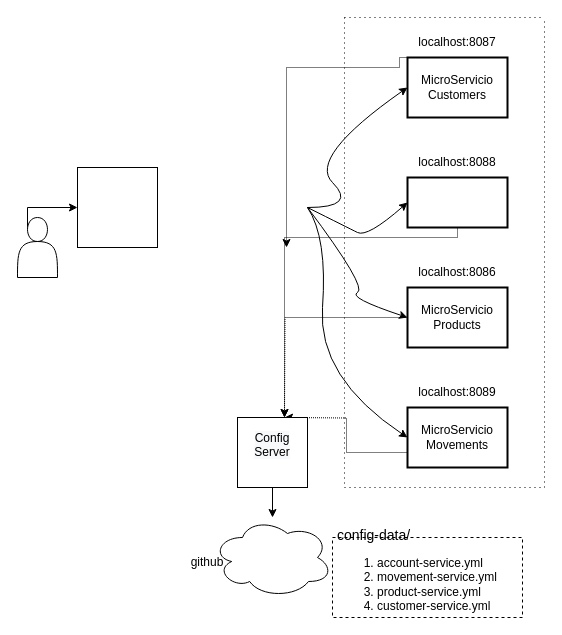
This 562x635 diagram has some shape labels left out. Here are the shapes that lost their labels. From the top down, the centre of each, then its label:
At pixel 117 207: "app Banco".
At pixel 457 202: "MicroServicio Accounts".
